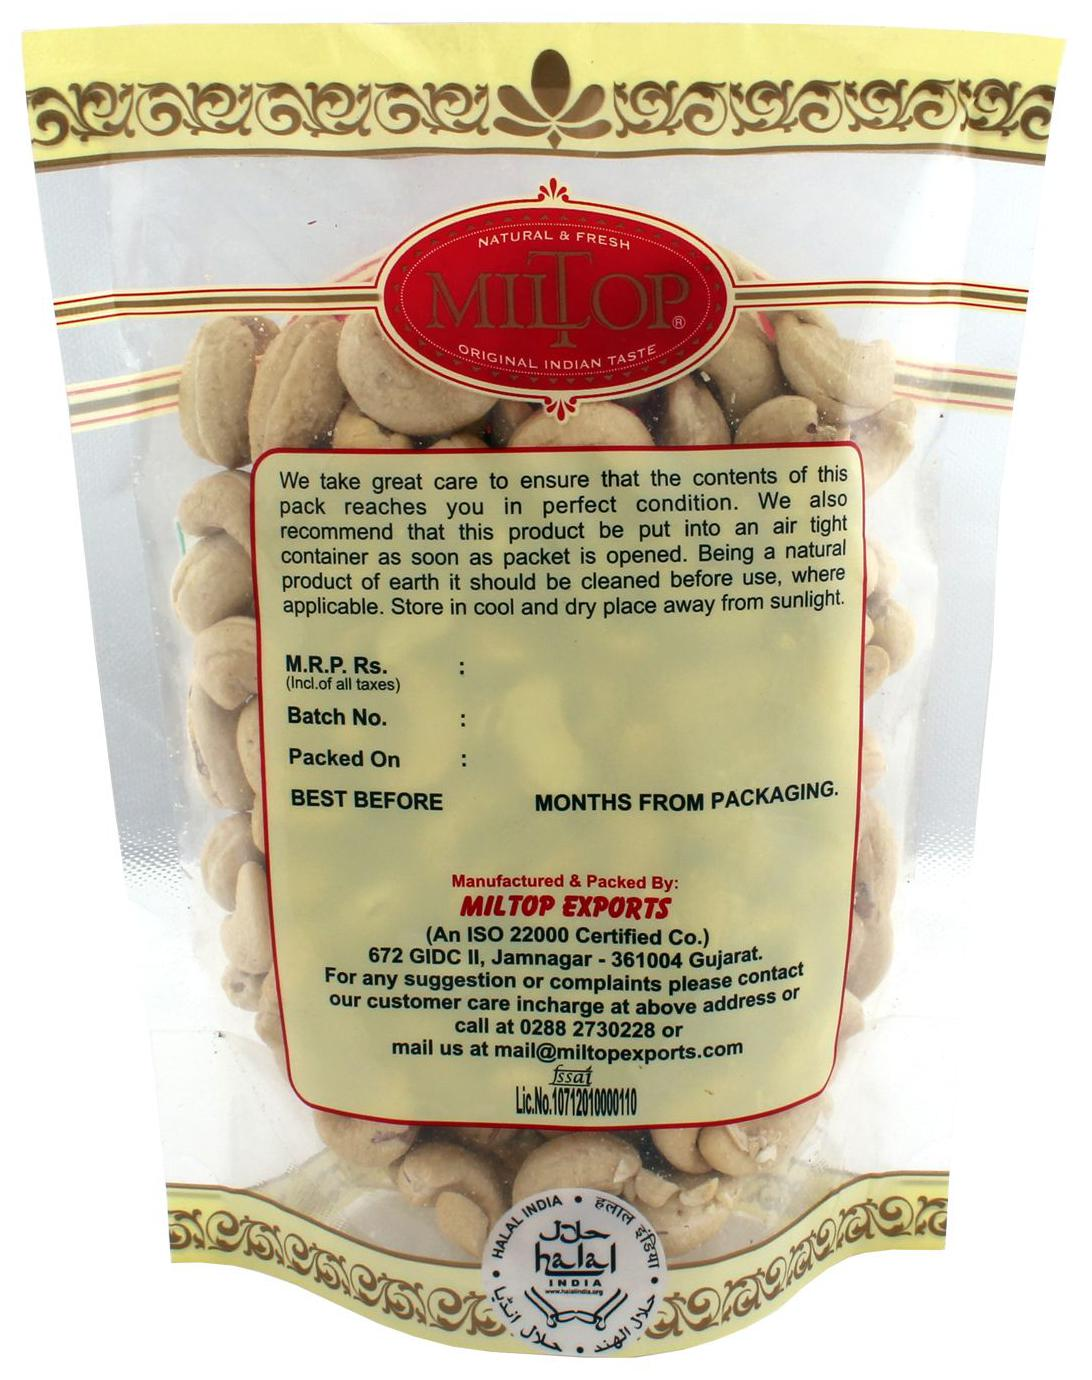fssai: (549, 1064, 595, 1087)
